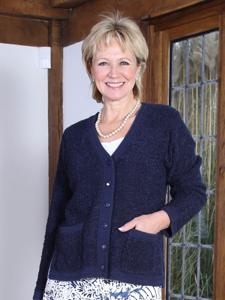S_cardigan sweater: (30, 114, 213, 279)
